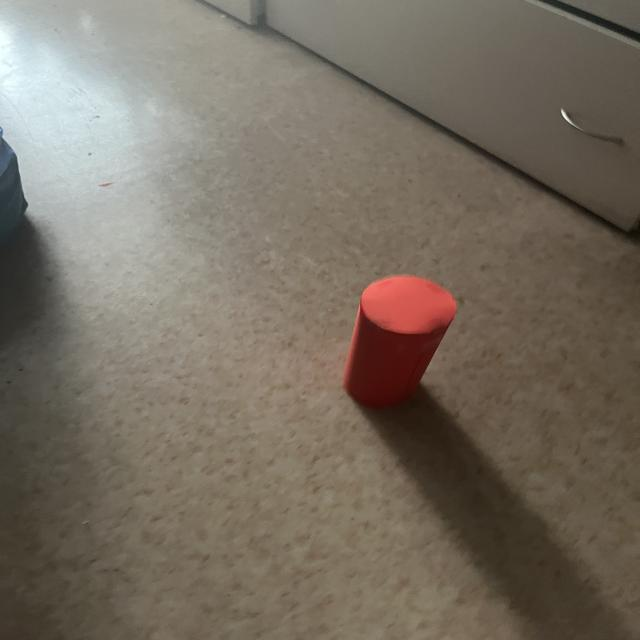przeszkoda: (343, 275, 456, 407)
